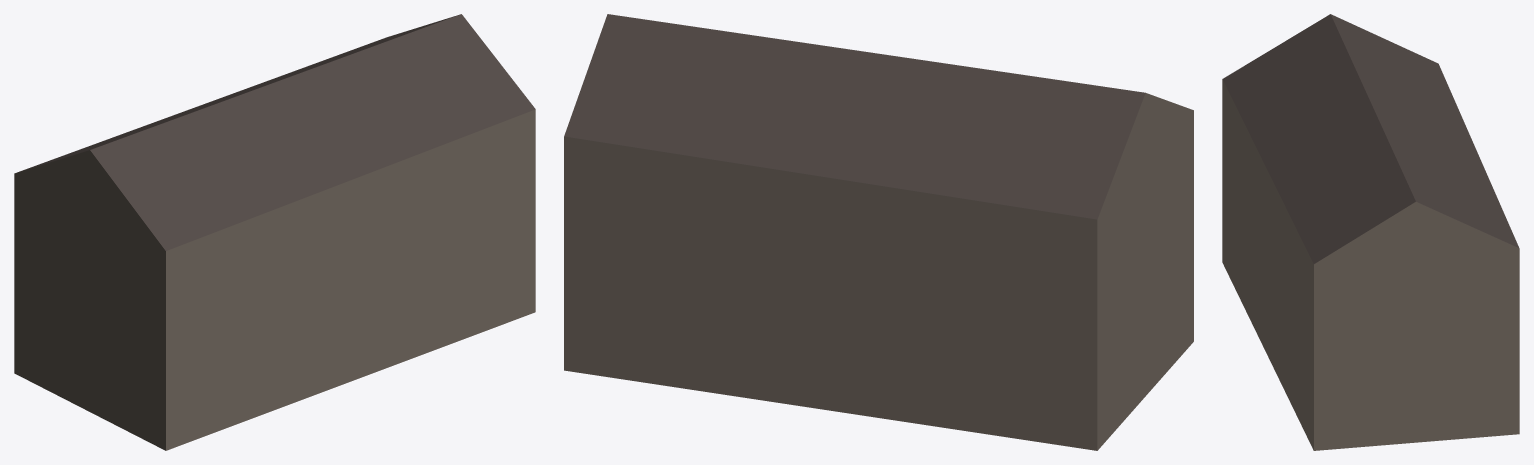
3 views of the same model, side by side, from view 1: azimuth 30°, elevation 25°; view 2: azimuth 150°, elevation 25°; view 3: azimuth 270°, elevation 25° (orthographic). The views are drawn at different scales.
Parts seen in each view (by area): view 1: HP-w293398941; view 2: HP-w293398941; view 3: HP-w293398941.
Part boxes in pixels (left/top/right/bottom): HP-w293398941: left=14, top=14, right=535, bottom=450; HP-w293398941: left=564, top=14, right=1193, bottom=450; HP-w293398941: left=1222, top=14, right=1519, bottom=450.
Bounding box in the file's own units: 14.26 × 7.87 × 8.79.
